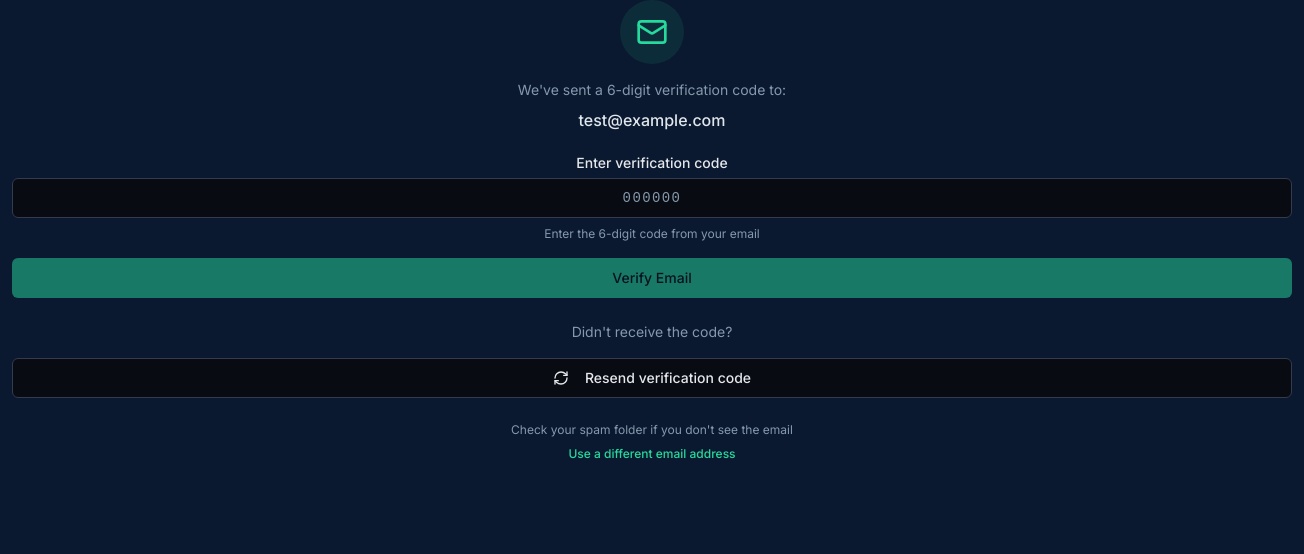
Test: EmailVerificationForm › Resend Verification Code › should handle resend errors
Click the button "Resend verification code" at (652, 378), box [12,358,1292,398]
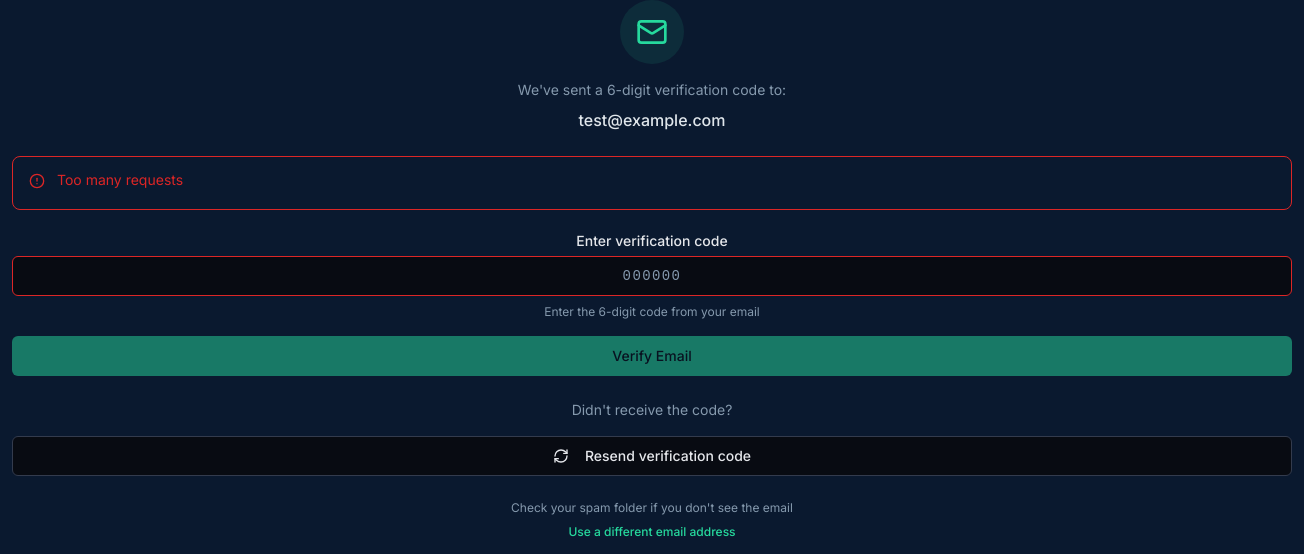
Check: the text "Too many requests" is shown, box [57,171,183,188]
